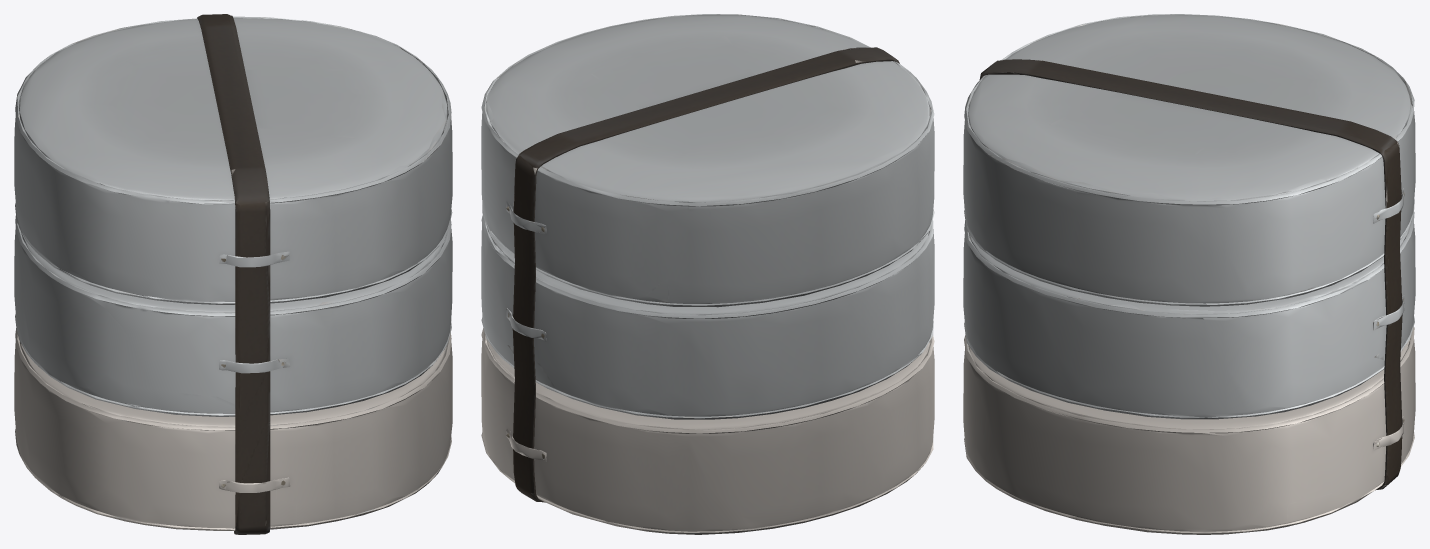
File: raw_model.obj
3 views of the same model, side by side, from view 1: azimuth 30°, elevation 25°; view 2: azimuth 150°, elevation 25°; view 3: azimuth 270°, elevation 25° (orthographic).
Visible parts, largest first — view 1: solid_001, solid_002, solid_003; view 2: solid_001, solid_002, solid_003; view 3: solid_001, solid_002, solid_003.
Part boxes in pixels (x1,y1,x2,y2): solid_001: [14, 16, 452, 416]; solid_002: [14, 328, 452, 530]; solid_003: [197, 14, 270, 534]; solid_001: [481, 14, 934, 419]; solid_002: [481, 328, 934, 534]; solid_003: [512, 47, 899, 502]; solid_001: [963, 14, 1415, 419]; solid_002: [963, 326, 1415, 534]; solid_003: [979, 59, 1402, 490].
Bounding box in the file's own units: 0.3521 × 0.3054 × 0.3532.
1 material, 1 textured.
